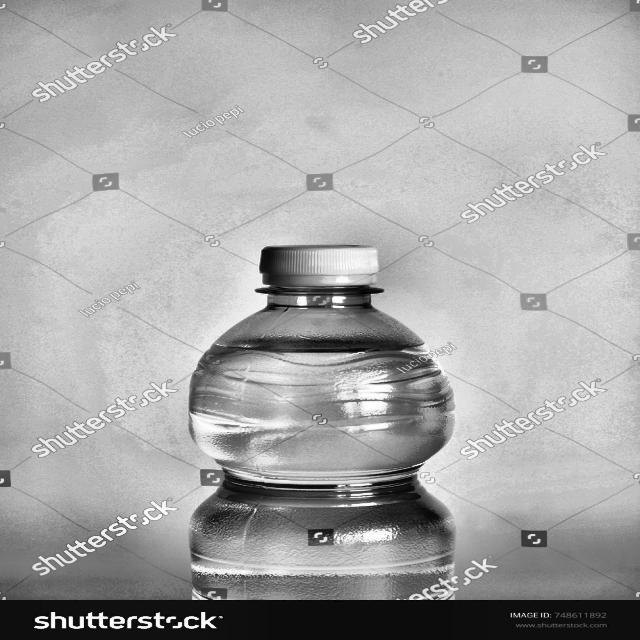waterbottle: (188, 244, 457, 501)
